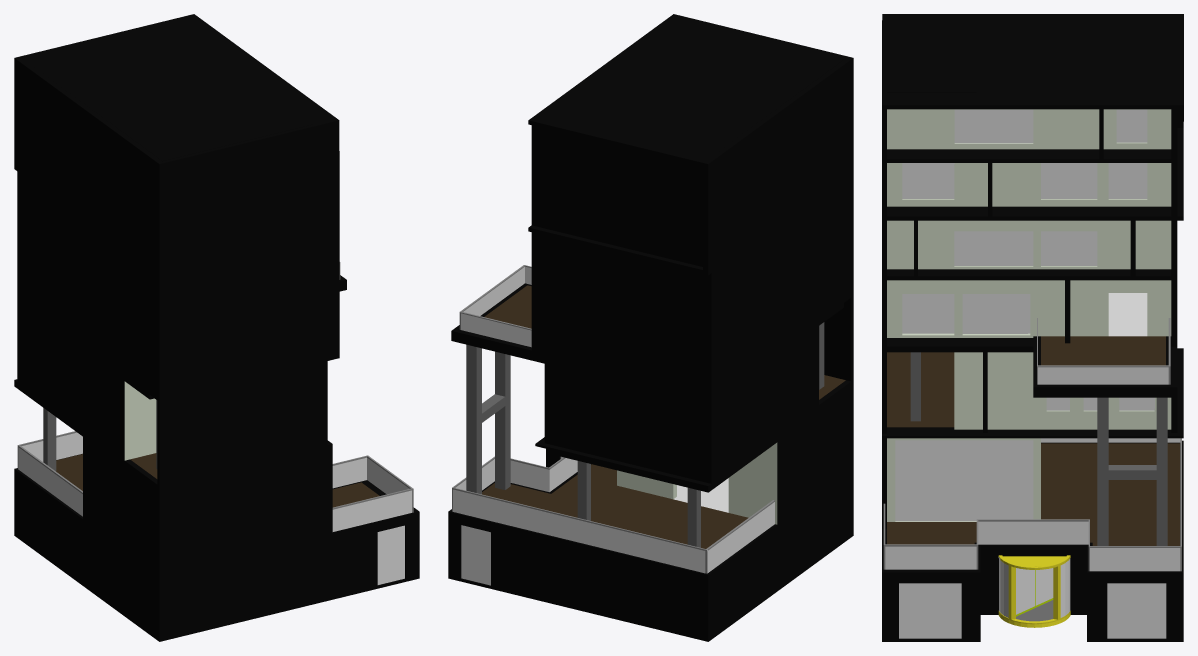
Rendered from 5STARHOTEL.fbx.
3 views of the same model, side by side, from view 1: azimuth 30°, elevation 25°; view 2: azimuth 150°, elevation 25°; view 3: azimuth 270°, elevation 25° (orthographic). The views are drawn at different scales.
Parts seen in each view (by area): view 1: Cube, Cube.001, Cube.013; view 2: Cube, Cube.001, Cube.010; view 3: Cube, Cube.001, Cube.004, Cube.008, Cube.006, Cube.007, Cube.009, Cylinder, Cube.002, Cube.003, Cube.014, Cube.005.
Boxes of the visible parts, left/top/right/bottom form: Cube: left=14, top=14, right=419, bottom=641; Cube.001: left=17, top=262, right=413, bottom=531; Cube.013: left=377, top=525, right=404, bottom=584; Cube: left=448, top=14, right=853, bottom=641; Cube.001: left=452, top=265, right=774, bottom=573; Cube.010: left=461, top=525, right=490, bottom=585; Cube: left=882, top=14, right=1183, bottom=641; Cube.001: left=883, top=318, right=1181, bottom=571; Cube.004: left=895, top=440, right=1033, bottom=521; Cube.008: left=902, top=163, right=1147, bottom=198; Cube.006: left=902, top=294, right=1030, bottom=333; Cube.007: left=954, top=231, right=1097, bottom=265; Cube.009: left=954, top=109, right=1147, bottom=143; Cylinder: left=998, top=555, right=1070, bottom=627; Cube.002: left=899, top=583, right=961, bottom=638; Cube.003: left=1107, top=583, right=1166, bottom=638; Cube.014: left=1016, top=568, right=1053, bottom=616; Cube.005: left=1046, top=397, right=1154, bottom=410.
Size of the model in its own units: 4235 by 7432 by 4096.
